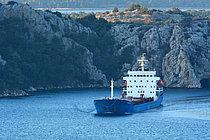Ship: (90, 50, 169, 119)
